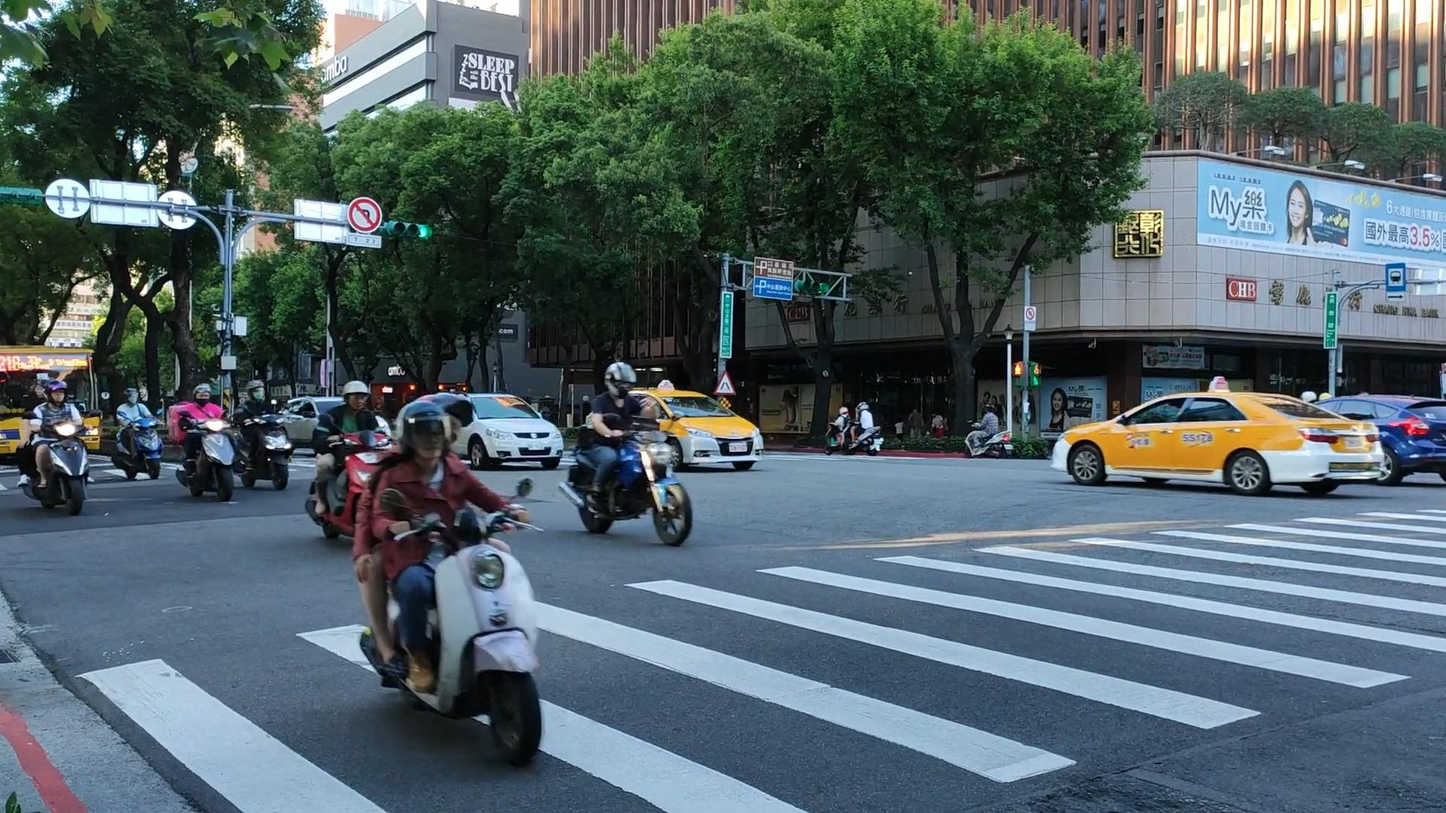driver: (352, 393, 545, 766), (558, 361, 691, 547), (305, 381, 395, 538), (15, 378, 102, 515), (168, 384, 244, 501), (234, 380, 293, 491), (111, 388, 167, 481), (964, 403, 1013, 459), (840, 401, 884, 456)
helmet: (395, 401, 451, 460), (604, 362, 636, 400), (342, 380, 371, 411), (43, 379, 68, 408), (192, 383, 211, 407), (246, 380, 265, 403), (123, 388, 138, 406)
